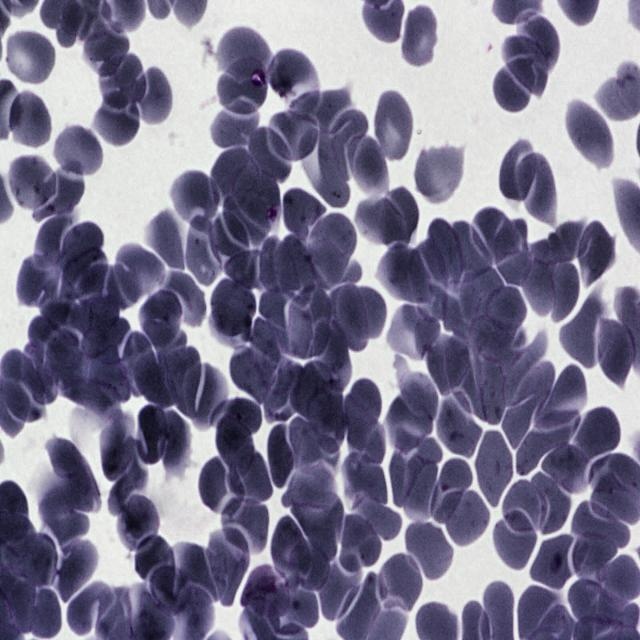red blood cell: (501, 364, 556, 450), (516, 407, 582, 478), (301, 126, 350, 208), (166, 168, 222, 238), (110, 243, 168, 310), (391, 438, 439, 517), (2, 26, 60, 90), (415, 140, 467, 209), (230, 165, 282, 233), (363, 186, 420, 248), (534, 366, 588, 431), (206, 526, 247, 611), (308, 212, 357, 283), (388, 391, 438, 460), (376, 245, 434, 304), (31, 162, 85, 225), (438, 486, 492, 548), (566, 101, 614, 170), (286, 288, 332, 360), (336, 509, 386, 575), (376, 550, 426, 616), (292, 496, 346, 557), (490, 509, 540, 574), (217, 24, 273, 82), (405, 517, 454, 583), (476, 428, 514, 513), (259, 353, 306, 421), (97, 404, 134, 489), (160, 264, 206, 332), (96, 52, 147, 113), (209, 278, 256, 344), (210, 144, 260, 206), (92, 89, 141, 152), (574, 216, 618, 286), (274, 235, 316, 308), (571, 500, 632, 550), (595, 314, 634, 392), (6, 88, 55, 150), (60, 246, 109, 308), (517, 151, 556, 228), (142, 206, 186, 274), (16, 249, 62, 314), (229, 336, 275, 401), (502, 34, 548, 99), (184, 361, 226, 432), (221, 496, 269, 558), (562, 294, 602, 368), (278, 185, 329, 243), (54, 123, 104, 182), (530, 470, 574, 537), (139, 289, 185, 353), (131, 339, 173, 409), (424, 332, 472, 393), (326, 284, 369, 352), (128, 68, 177, 127), (312, 320, 351, 394), (54, 539, 99, 603), (198, 454, 245, 515), (6, 535, 59, 589), (346, 135, 390, 199), (216, 61, 267, 116), (437, 390, 480, 455), (82, 22, 130, 80), (424, 218, 466, 284), (343, 373, 382, 444), (388, 305, 440, 358), (266, 49, 320, 100), (398, 3, 439, 70), (163, 345, 201, 417), (184, 214, 222, 286), (212, 212, 250, 284), (516, 11, 560, 73), (448, 220, 494, 279), (291, 86, 354, 129), (227, 444, 272, 504), (572, 407, 621, 462), (337, 284, 386, 339), (373, 90, 412, 159), (472, 207, 520, 263), (341, 451, 389, 507), (469, 318, 517, 374), (273, 515, 310, 586), (431, 458, 472, 522), (42, 331, 88, 388), (210, 100, 262, 150), (19, 341, 59, 406), (332, 109, 368, 181), (472, 354, 508, 426), (9, 156, 56, 211), (346, 413, 389, 473), (459, 267, 504, 324), (280, 463, 338, 507), (211, 398, 263, 446), (66, 583, 114, 635), (306, 390, 346, 452), (320, 563, 361, 623), (491, 56, 534, 113), (116, 495, 159, 552), (217, 417, 254, 483), (502, 480, 548, 533), (270, 112, 318, 162), (134, 401, 172, 464), (571, 534, 618, 584), (264, 424, 298, 493), (81, 318, 132, 364), (533, 537, 574, 594), (32, 214, 75, 268), (499, 142, 539, 200), (495, 220, 530, 286), (542, 446, 589, 495), (261, 236, 299, 296), (249, 126, 292, 179), (396, 369, 440, 419), (58, 222, 104, 269), (149, 564, 191, 614), (68, 295, 119, 336), (524, 261, 558, 318), (133, 536, 175, 582), (550, 258, 580, 322), (28, 584, 62, 638), (486, 288, 526, 330), (360, 501, 402, 540)
ring: (242, 563, 290, 620)
